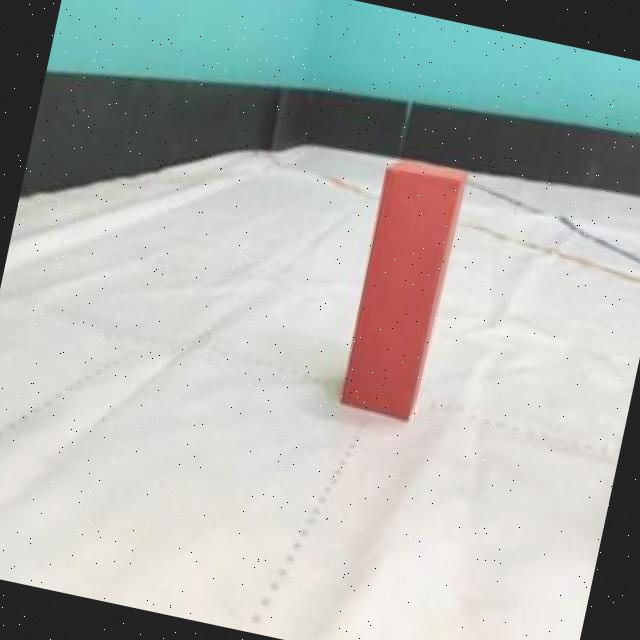redbox: (336, 154, 468, 422)
